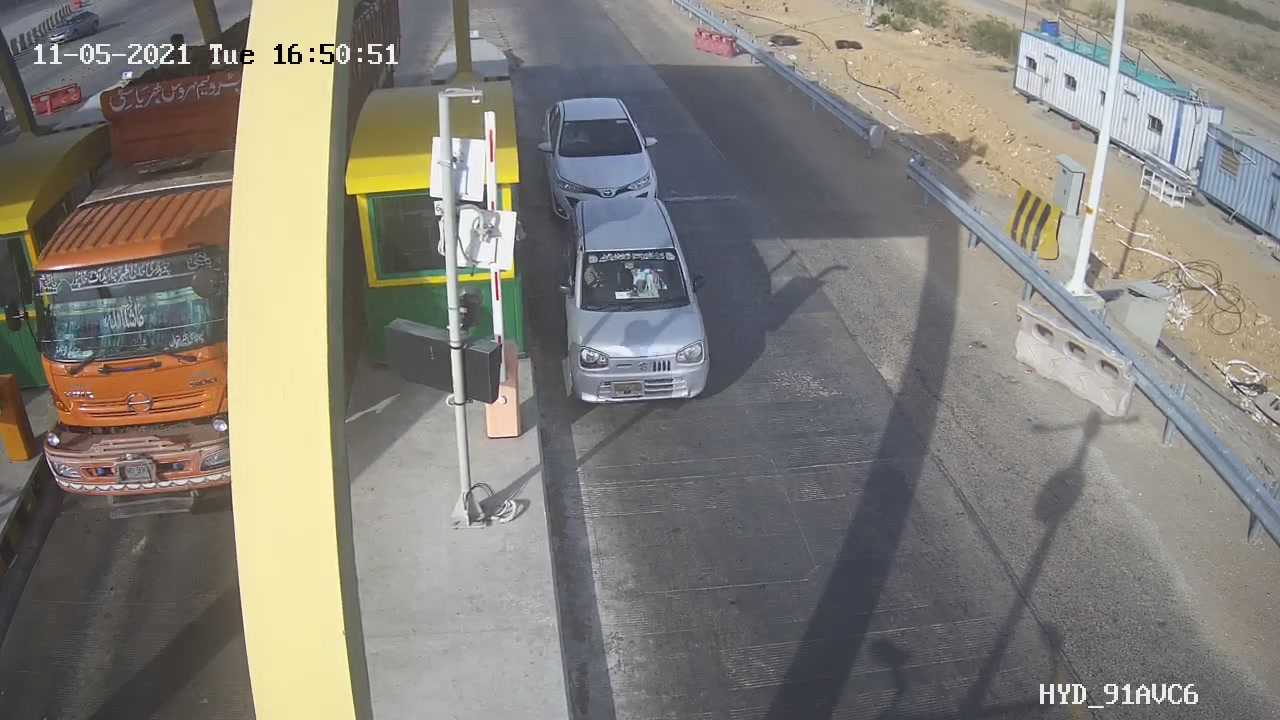F1: (544, 188, 730, 420), (522, 82, 676, 239)
